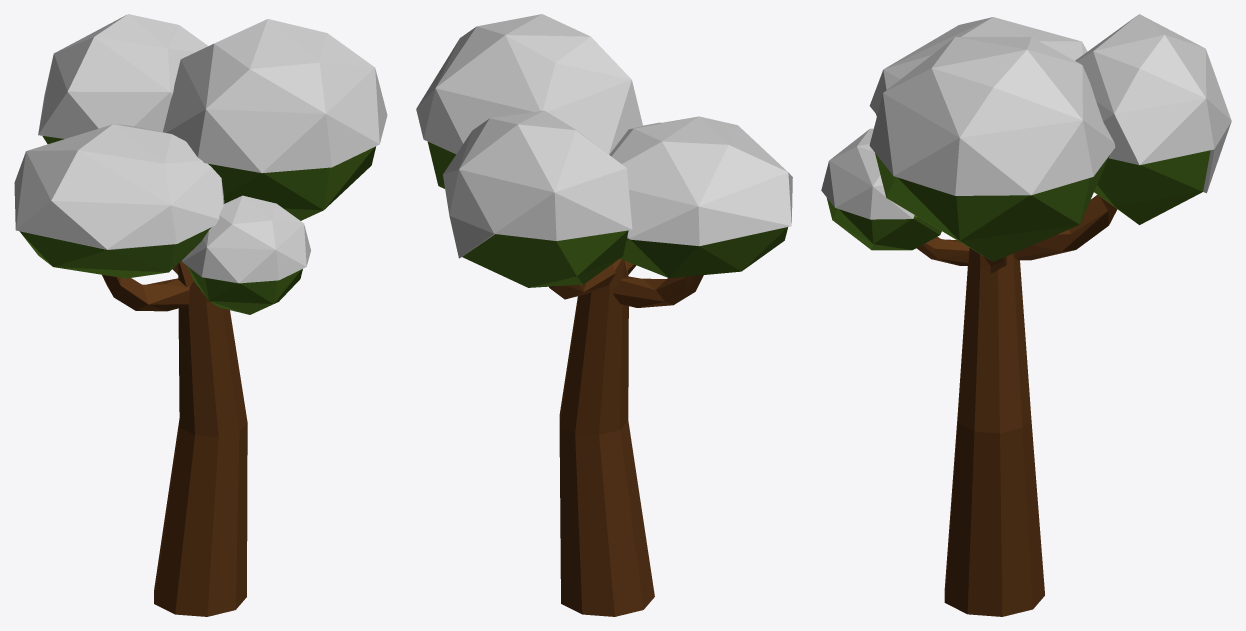
File: Tree_24.fbx
The picture shows the model from 3 angles, left to right: view 1: azimuth 30°, elevation 25°; view 2: azimuth 150°, elevation 25°; view 3: azimuth 270°, elevation 25°; orthographic projection. The views are drawn at different scales.
Parts seen in each view (by area): view 1: Tree_24; view 2: Tree_24; view 3: Tree_24.
Boxes of the visible parts, x1,y1,x2,y2 form: Tree_24: (14, 14, 387, 616); Tree_24: (416, 14, 792, 616); Tree_24: (821, 14, 1231, 616).
Bounding box in the file's own units: 368 × 542 × 342.
